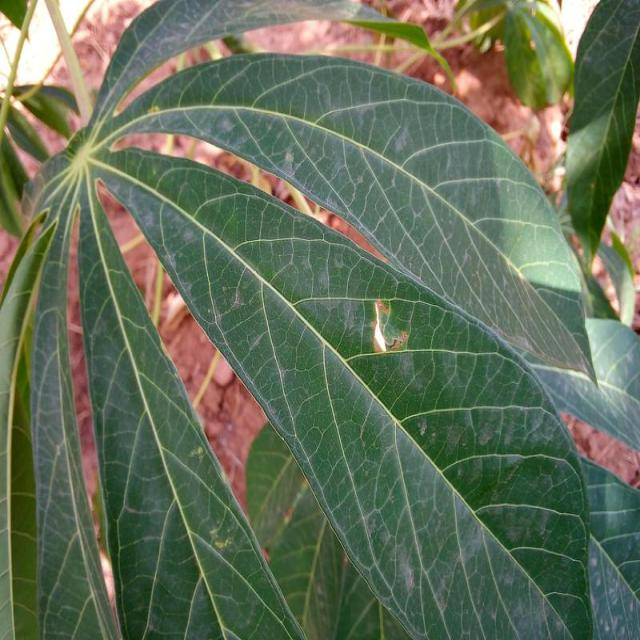cassava leaf: (2, 1, 615, 638)
